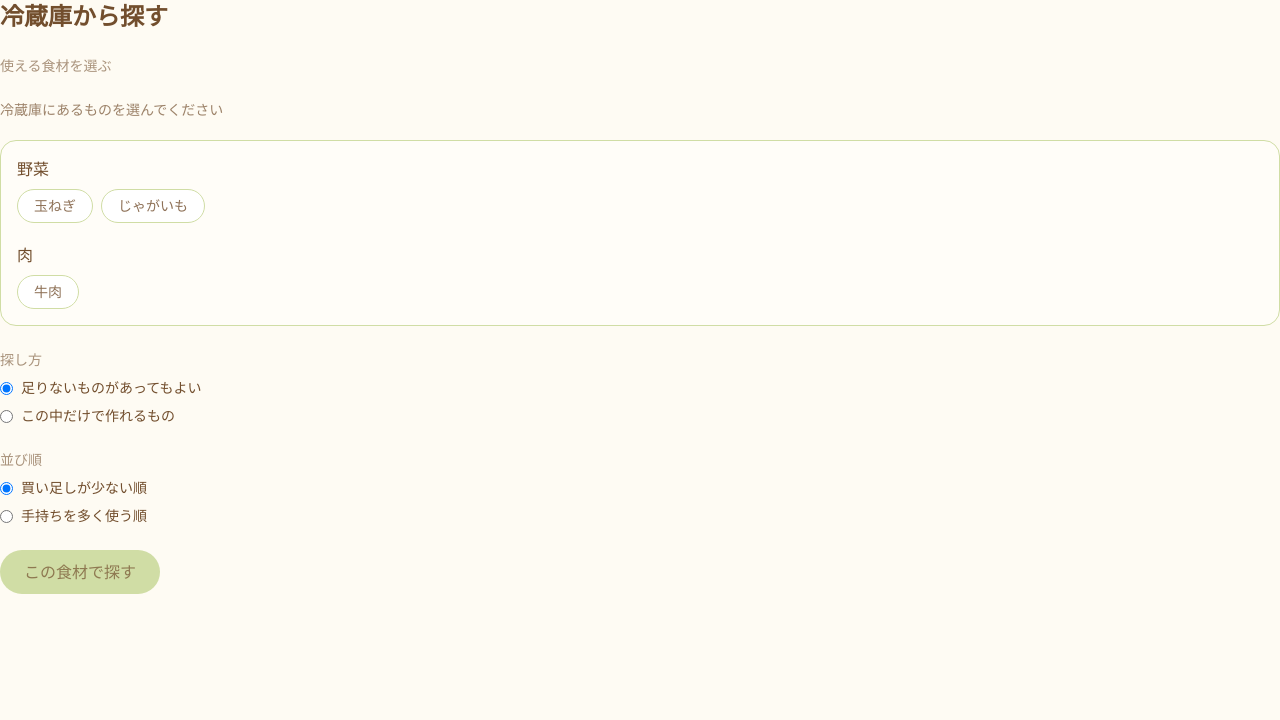
Scenario: 冷蔵庫から探す › 作れるものが0件なら、その旨とあと1品の候補を別の見出しで出す
Click the checkbox labelled "玉ねぎ" at (55, 206), box 17,189 -> 93,223
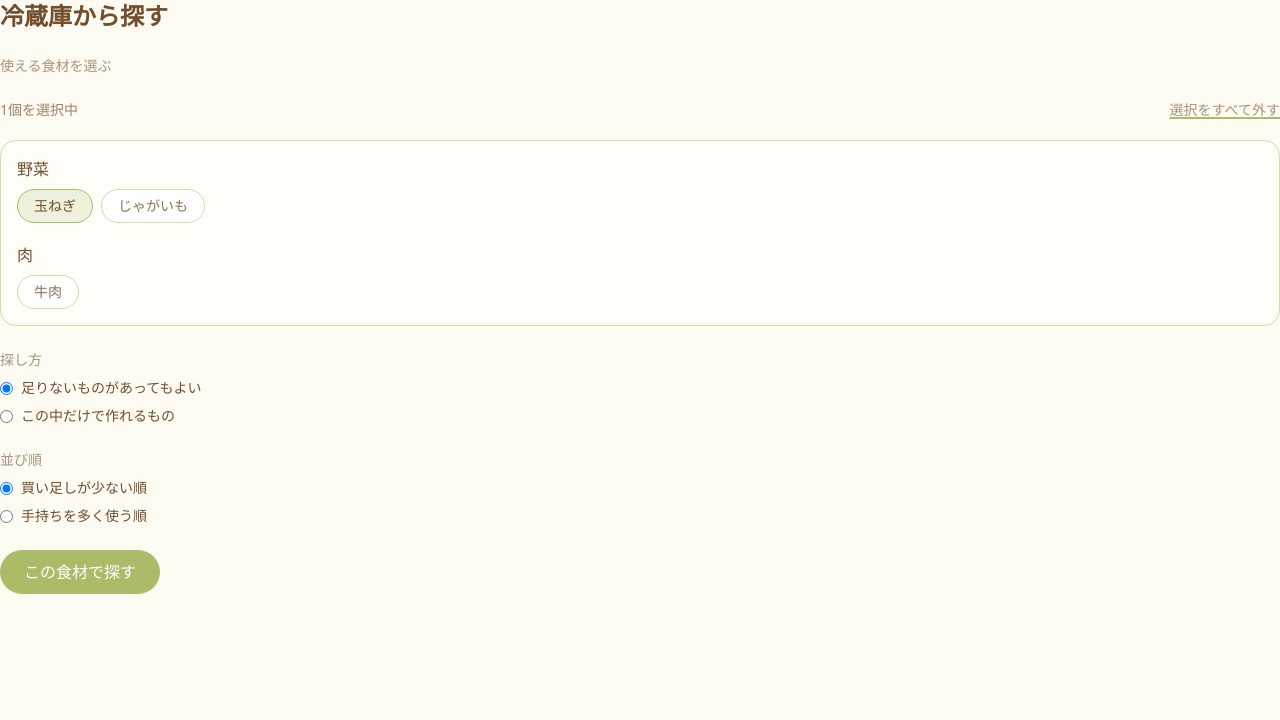
Click the radio button labelled "この中だけで作れるもの" at (6, 416), box 0,410 -> 13,422
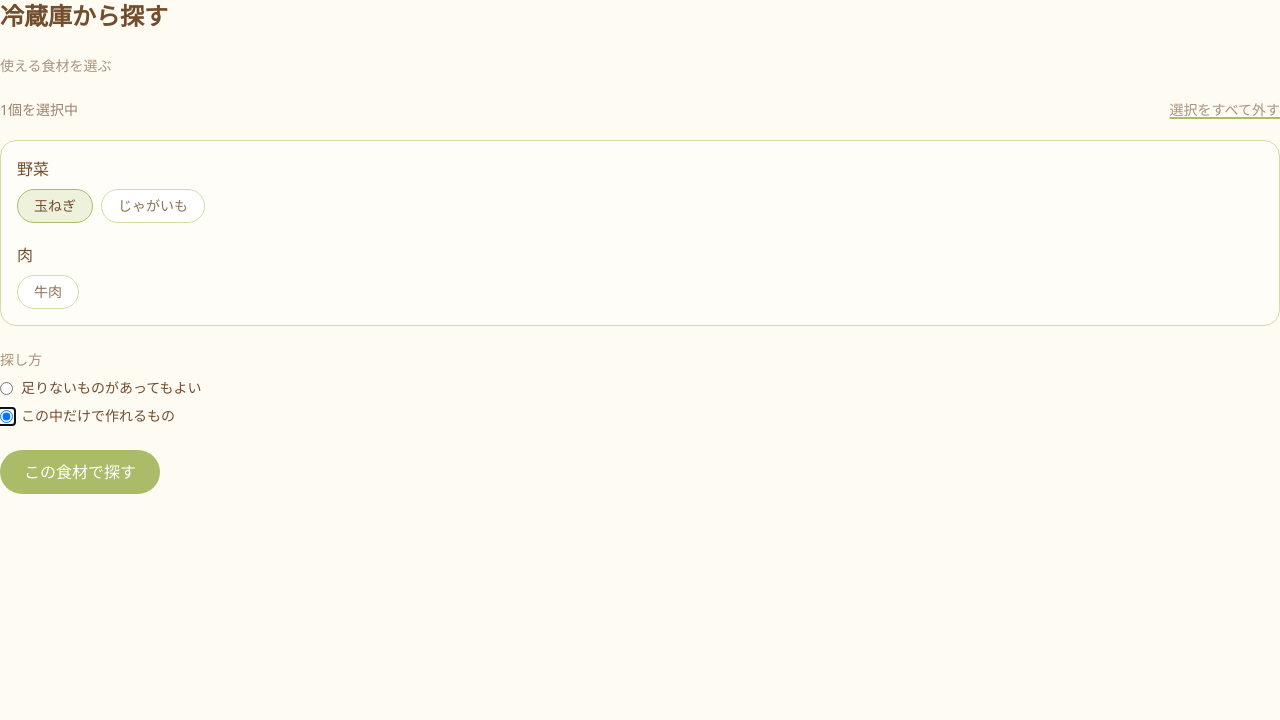
Click the button "この食材で探す" at (80, 472), box 0,450 -> 160,494
(page scrolled)
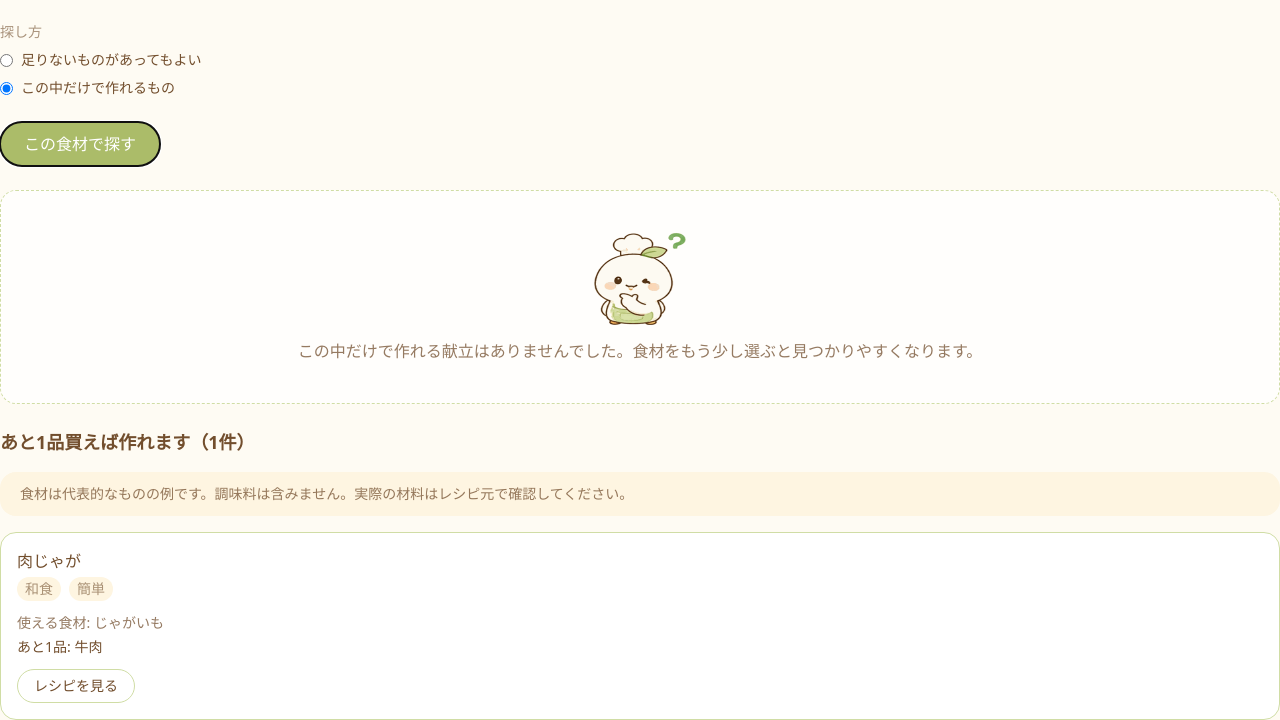
expect the text "この中だけで作れる献立はありませんでした。食材をもう少し選ぶと見つかりやすくなります。" is shown: met, box 298,339 -> 982,363
expect the heading "あと1品買えば作れます（1件）" is shown: met, box 0,430 -> 255,454
expect the list item labelled "肉じゃが" is shown: met, box 0,532 -> 1279,719
